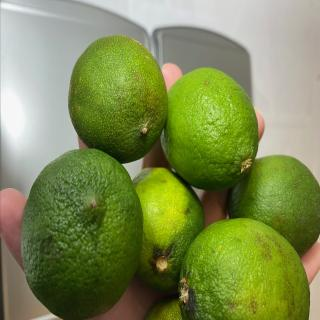Chilli: (68, 34, 168, 164)
Lemon: (20, 148, 144, 319), (178, 217, 310, 320), (160, 67, 259, 191), (228, 154, 320, 257), (132, 166, 205, 292), (145, 296, 182, 320)
